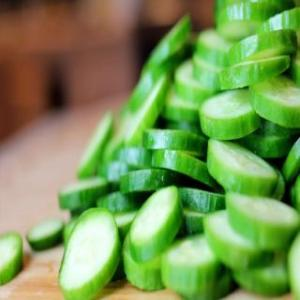cucumber: (60, 205, 120, 297), (209, 138, 281, 196), (206, 208, 274, 268), (226, 192, 300, 245), (131, 184, 183, 252), (201, 90, 263, 136), (141, 130, 207, 157)
